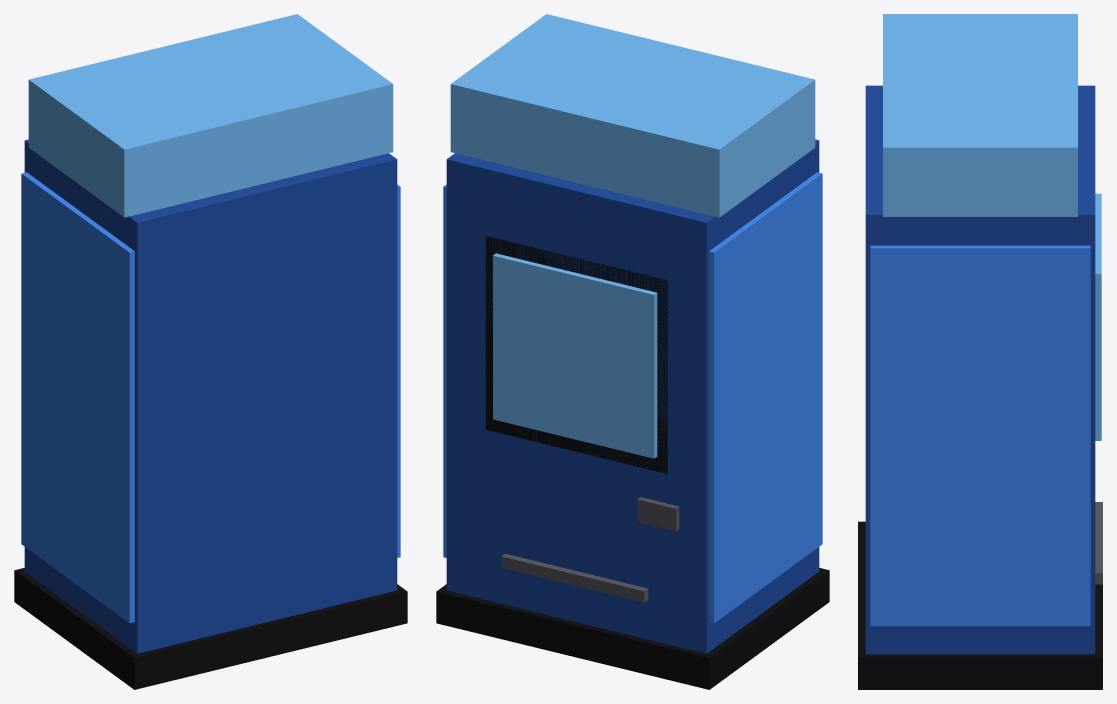
File: perk_staminup.obj
The picture shows the model from 3 angles, left to right: view 1: azimuth 30°, elevation 25°; view 2: azimuth 150°, elevation 25°; view 3: azimuth 270°, elevation 25°; orthographic projection.
Parts seen in each view (by area): view 1: perk_machine; view 2: perk_machine; view 3: perk_machine.
Boxes of the visible parts, x1,y1,x2,y2 form: perk_machine: [14, 14, 407, 689]; perk_machine: [436, 14, 829, 689]; perk_machine: [858, 14, 1102, 689].
Size of the model in its own units: 1.26 by 2.34 by 0.96.
